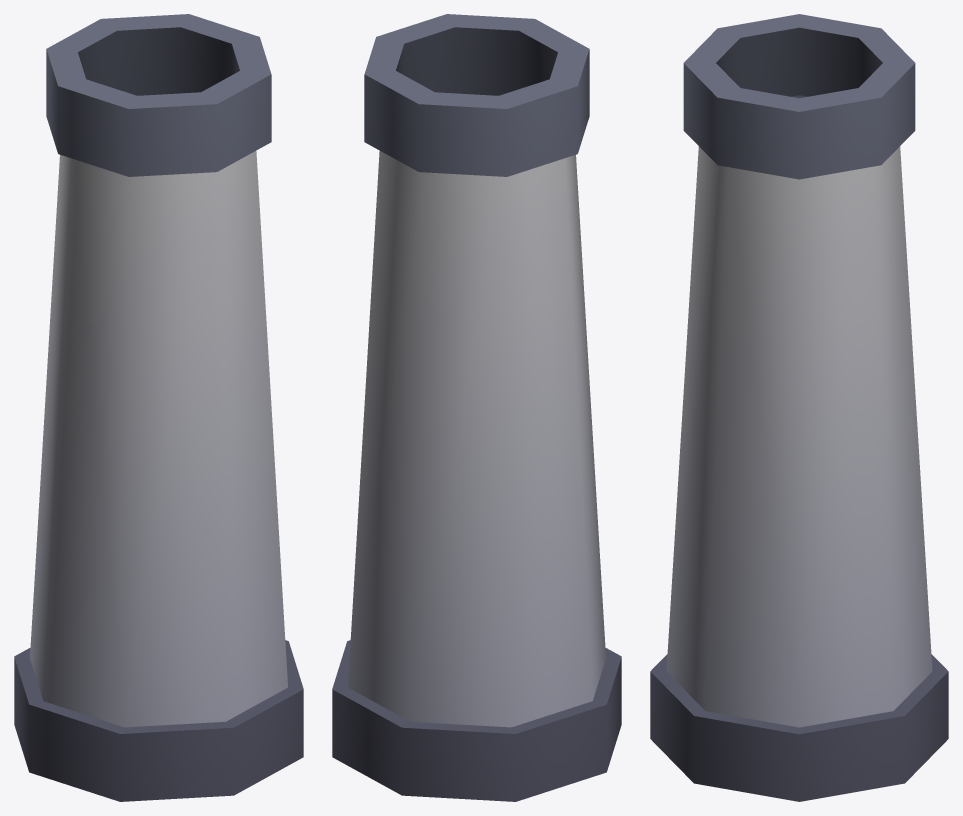
The model's file is industrial-chimney-small.glb.
3 views of the same model, side by side, from view 1: azimuth 30°, elevation 25°; view 2: azimuth 150°, elevation 25°; view 3: azimuth 270°, elevation 25° (orthographic).
Visible parts, largest first — view 1: chimney-small; view 2: chimney-small; view 3: chimney-small.
Part boxes in pixels (x1=…): chimney-small: x1=14, y1=14, x2=303, y2=801; chimney-small: x1=332, y1=14, x2=621, y2=801; chimney-small: x1=650, y1=14, x2=948, y2=801.
Bounding box in the file's own units: 0.3 × 0.75 × 0.3.
